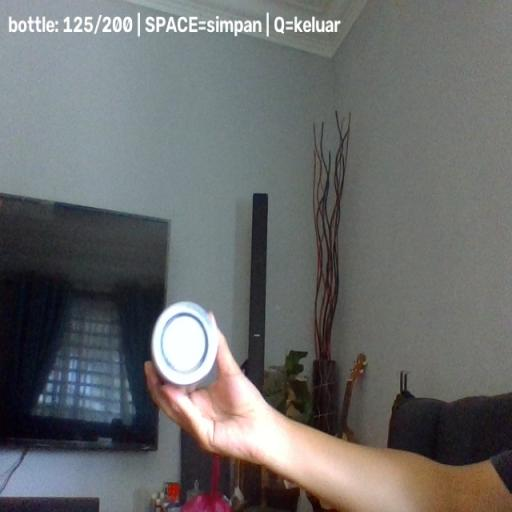Bottle: (150, 301, 220, 392)
